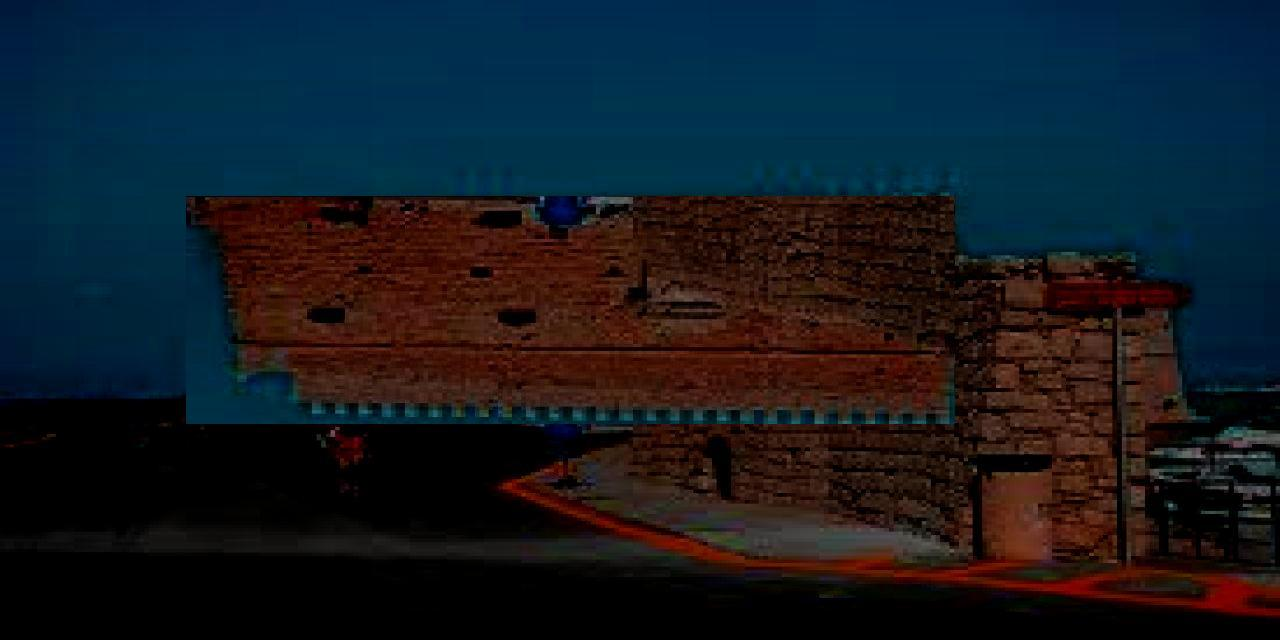Kules: (187, 197, 956, 425)
